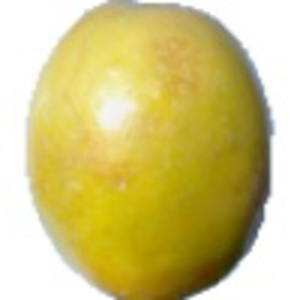maracujá: (23, 1, 278, 300)
